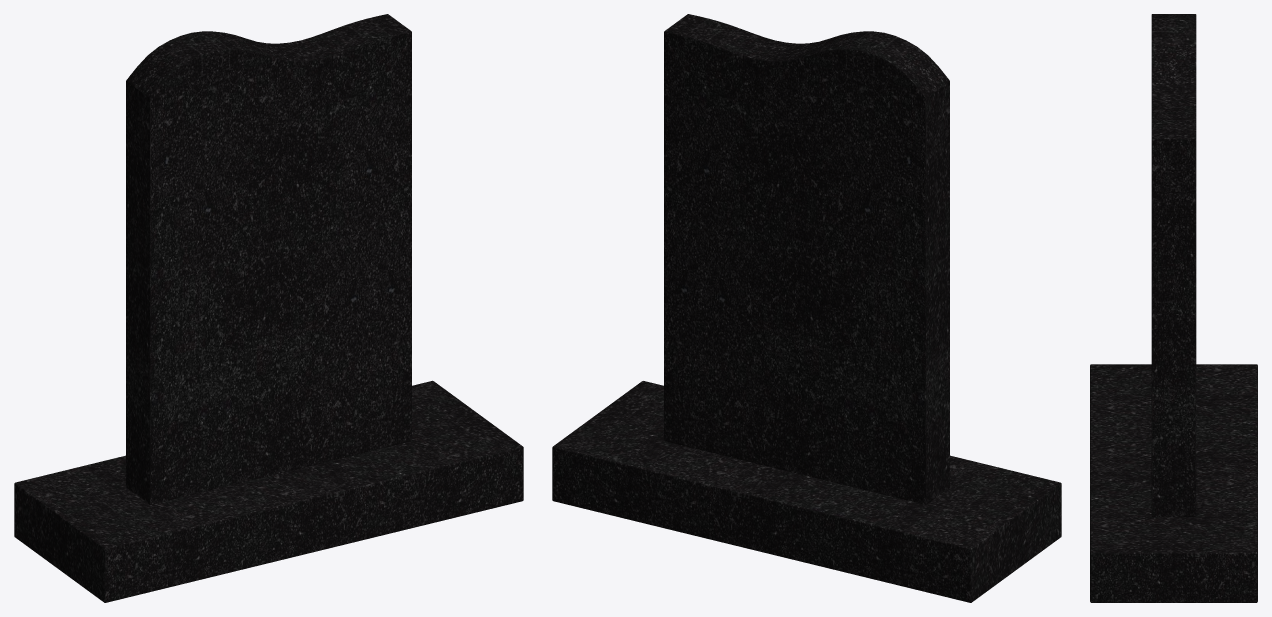
File: Number 2 (Big).gltf
The picture shows the model from 3 angles, left to right: view 1: azimuth 30°, elevation 25°; view 2: azimuth 150°, elevation 25°; view 3: azimuth 270°, elevation 25°; orthographic projection. The views are drawn at different scales.
Parts seen in each view (by area): view 1: Cube.007, Cube.006; view 2: Cube.007, Cube.006; view 3: Cube.006, Cube.007.
Boxes of the visible parts, x1=… form: Cube.007: x1=126, y1=14, x2=411, y2=504; Cube.006: x1=14, y1=380, x2=523, y2=602; Cube.007: x1=664, y1=14, x2=949, y2=504; Cube.006: x1=552, y1=381, x2=1061, y2=602; Cube.006: x1=1090, y1=364, x2=1257, y2=602; Cube.007: x1=1151, y1=14, x2=1196, y2=516.
Size of the model in its own units: 0.8 by 0.9 by 0.3.
1 material, 1 textured.
